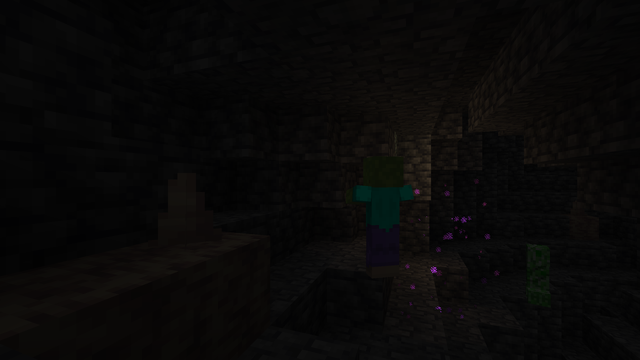creepers: (521, 240, 554, 305)
zombies: (361, 158, 400, 282)
